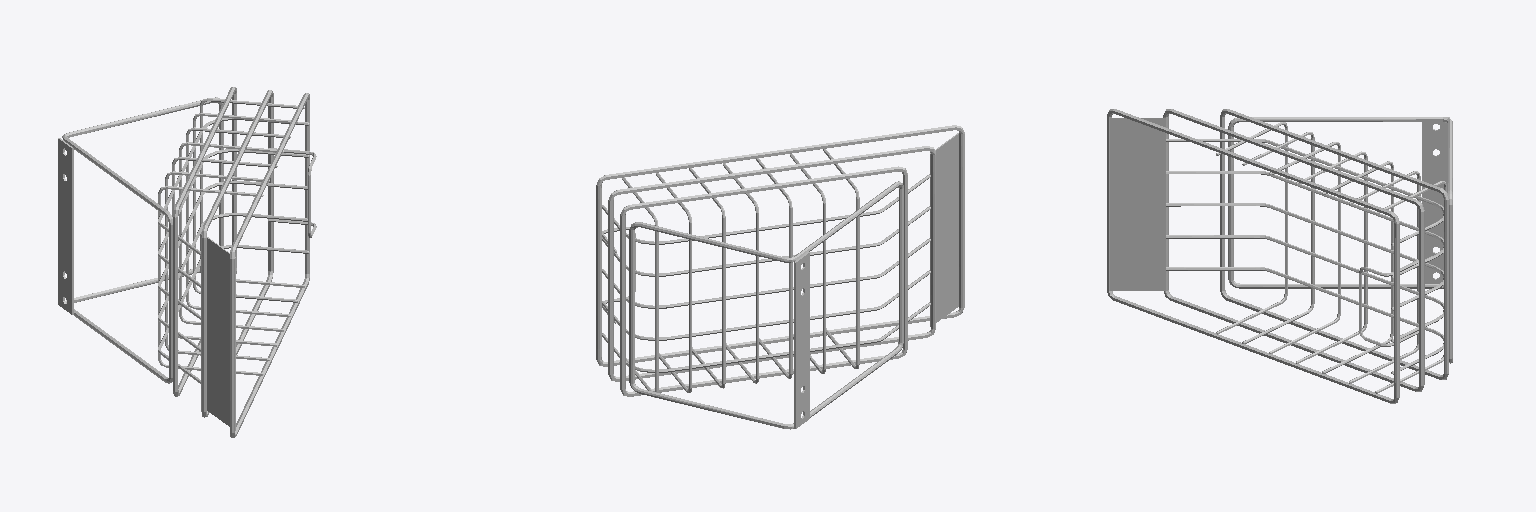
The model's file is uploads_files_95751_basket_lowpoly.obj.
3 views of the same model, side by side, from view 1: azimuth 30°, elevation 25°; view 2: azimuth 150°, elevation 25°; view 3: azimuth 270°, elevation 25° (orthographic).
Visible parts, largest first — view 1: BASKET; view 2: BASKET; view 3: BASKET.
Part boxes in pixels (left/top/right/bottom): BASKET: left=58, top=87, right=316, bottom=437; BASKET: left=596, top=125, right=964, bottom=429; BASKET: left=1107, top=109, right=1452, bottom=403.
Size of the model in its own units: 185 by 150 by 245.